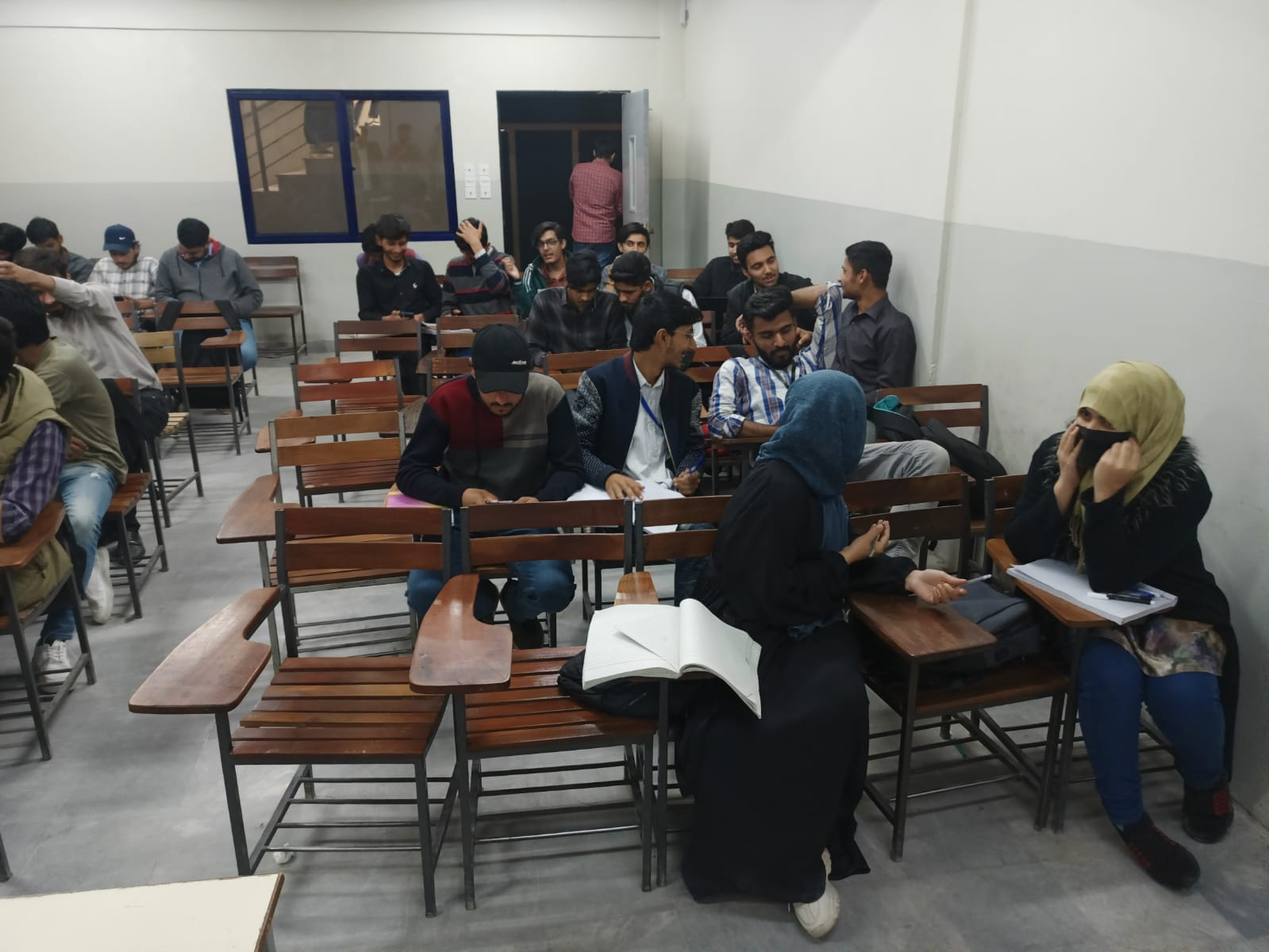non-cheating: (470, 324, 531, 417), (742, 287, 798, 370), (565, 250, 602, 309), (103, 223, 141, 271), (374, 213, 410, 263), (176, 217, 211, 263), (531, 221, 567, 265)
phone: (386, 310, 422, 321)
